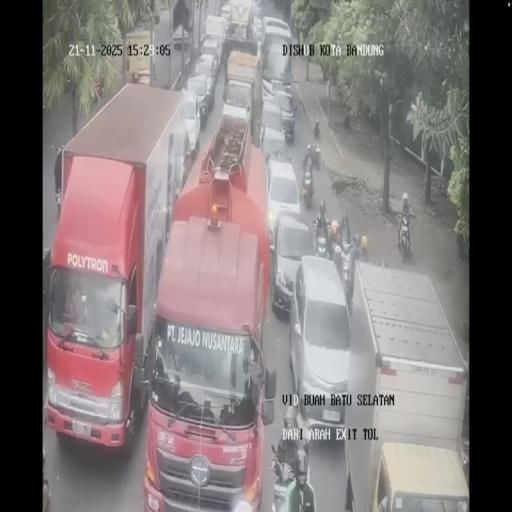3: (46, 80, 194, 454), (333, 258, 467, 509), (125, 28, 151, 84)
car: (270, 207, 315, 318), (258, 99, 288, 156), (194, 52, 217, 101), (262, 16, 290, 52), (268, 77, 291, 109), (252, 16, 264, 44), (220, 3, 232, 26)
truck: (337, 236, 356, 304), (397, 214, 411, 262), (329, 229, 343, 265), (302, 166, 314, 206), (312, 139, 320, 169)
